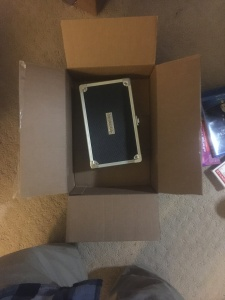innerbox: (64, 69, 157, 191)
outerbox: (19, 20, 202, 240)
product: (79, 81, 137, 164)
